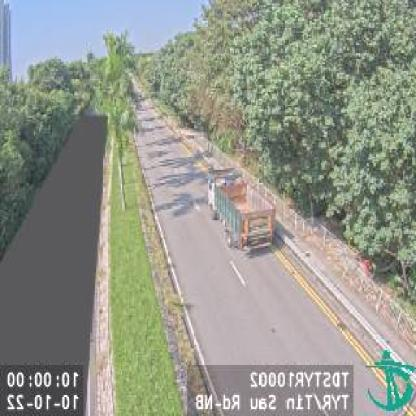Truck: (210, 164, 275, 251)
